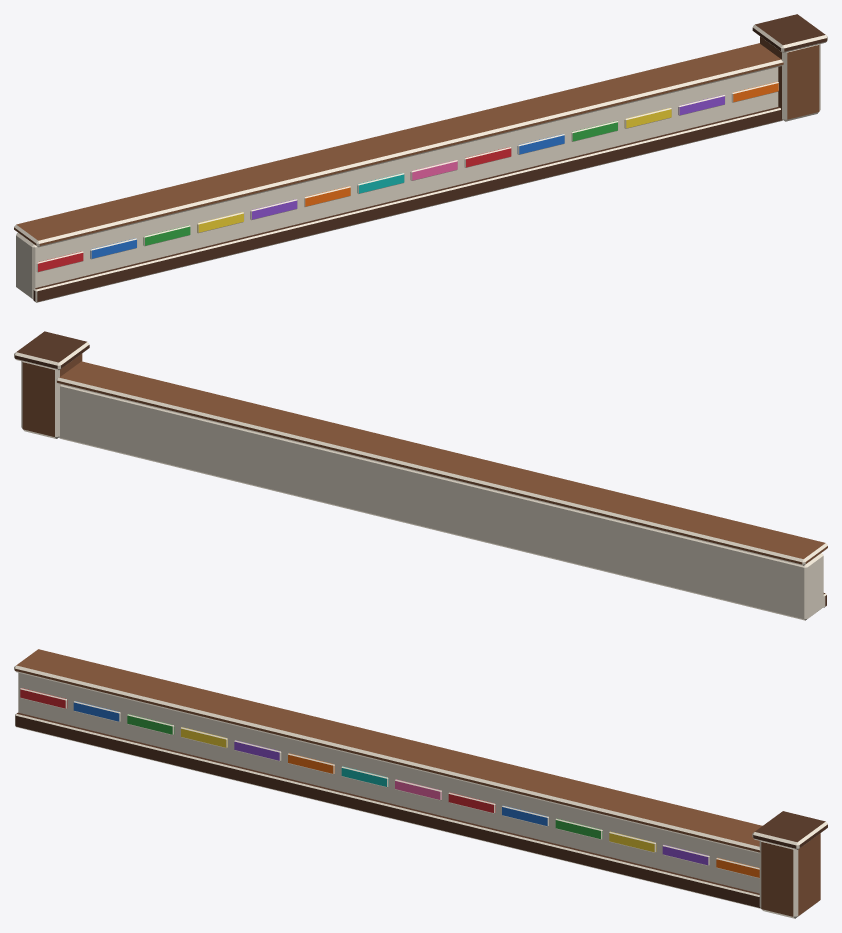
Rendered from paint_wall.glb.
3 views of the same model, one above another, from view 1: azimuth 30°, elevation 25°; view 2: azimuth 150°, elevation 25°; view 3: azimuth 330°, elevation 25° (orthographic).
Visible parts, largest first — view 1: paint_wall; view 2: paint_wall; view 3: paint_wall.
Part boxes in pixels (x1=…): paint_wall: x1=14, y1=14, x2=827, y2=302; paint_wall: x1=14, y1=331, x2=827, y2=620; paint_wall: x1=14, y1=649, x2=827, y2=918.
Bounding box in the file's own units: 7.37 × 0.715 × 0.5.
